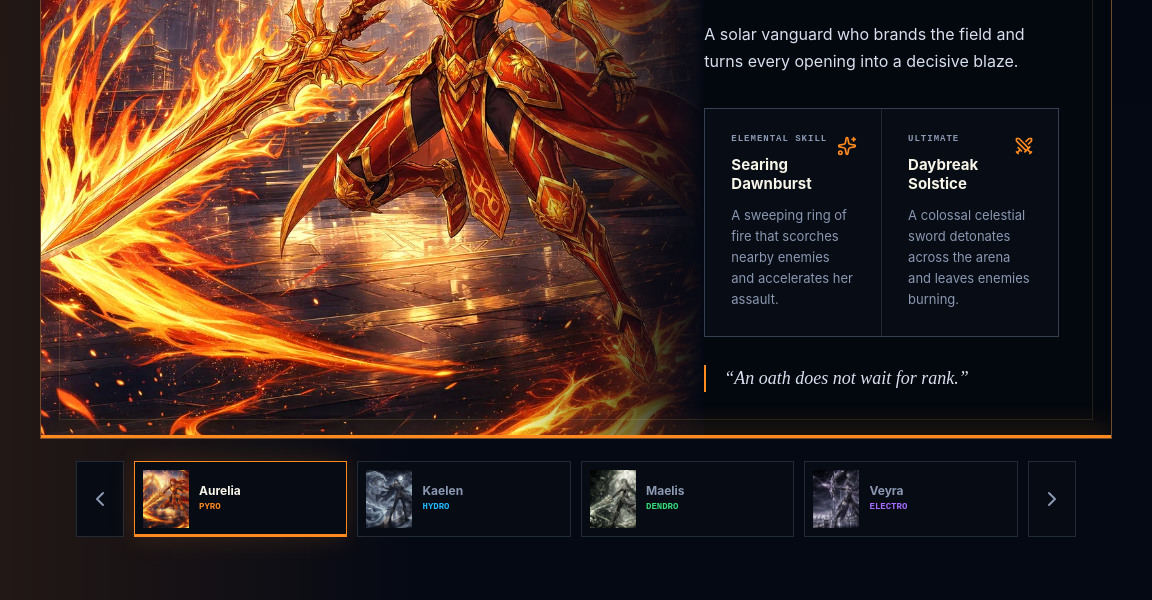
Test case: hero showcase › presents every featured hero and lets visitors open a dossier
(page scrolled)
Click the button named "View Veyra Stormglass" at (911, 499), box x1=804 y1=461 x2=1018 y2=537
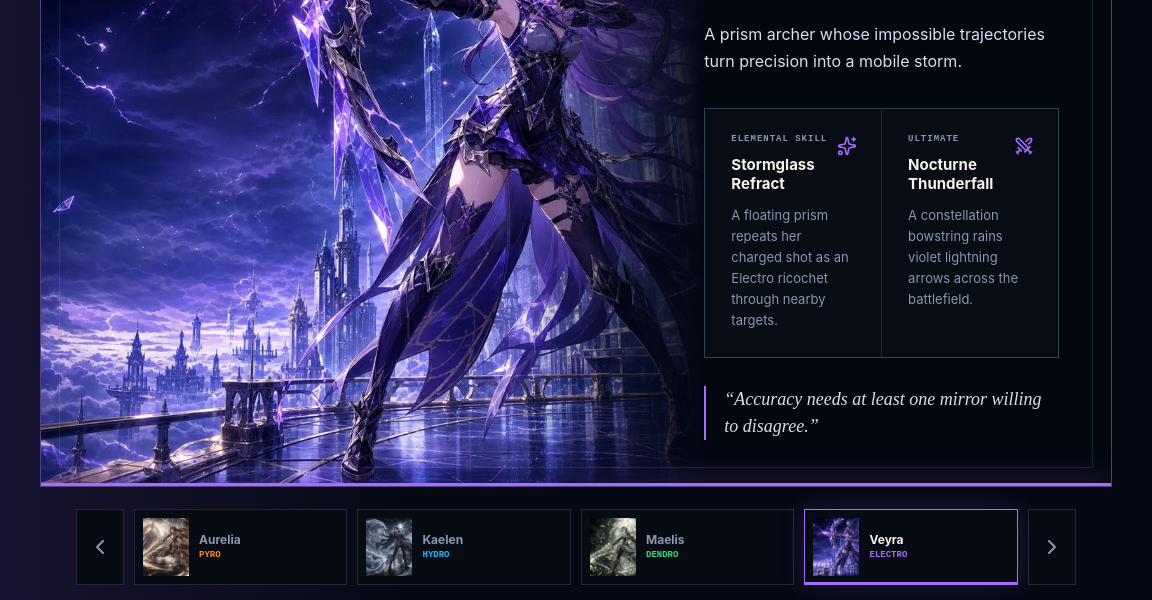
Now the text "Stormglass Refract" is shown, box x1=731 y1=154 x2=815 y2=192
Now the text "Nocturne Thunderfall" is shown, box x1=908 y1=154 x2=993 y2=192
